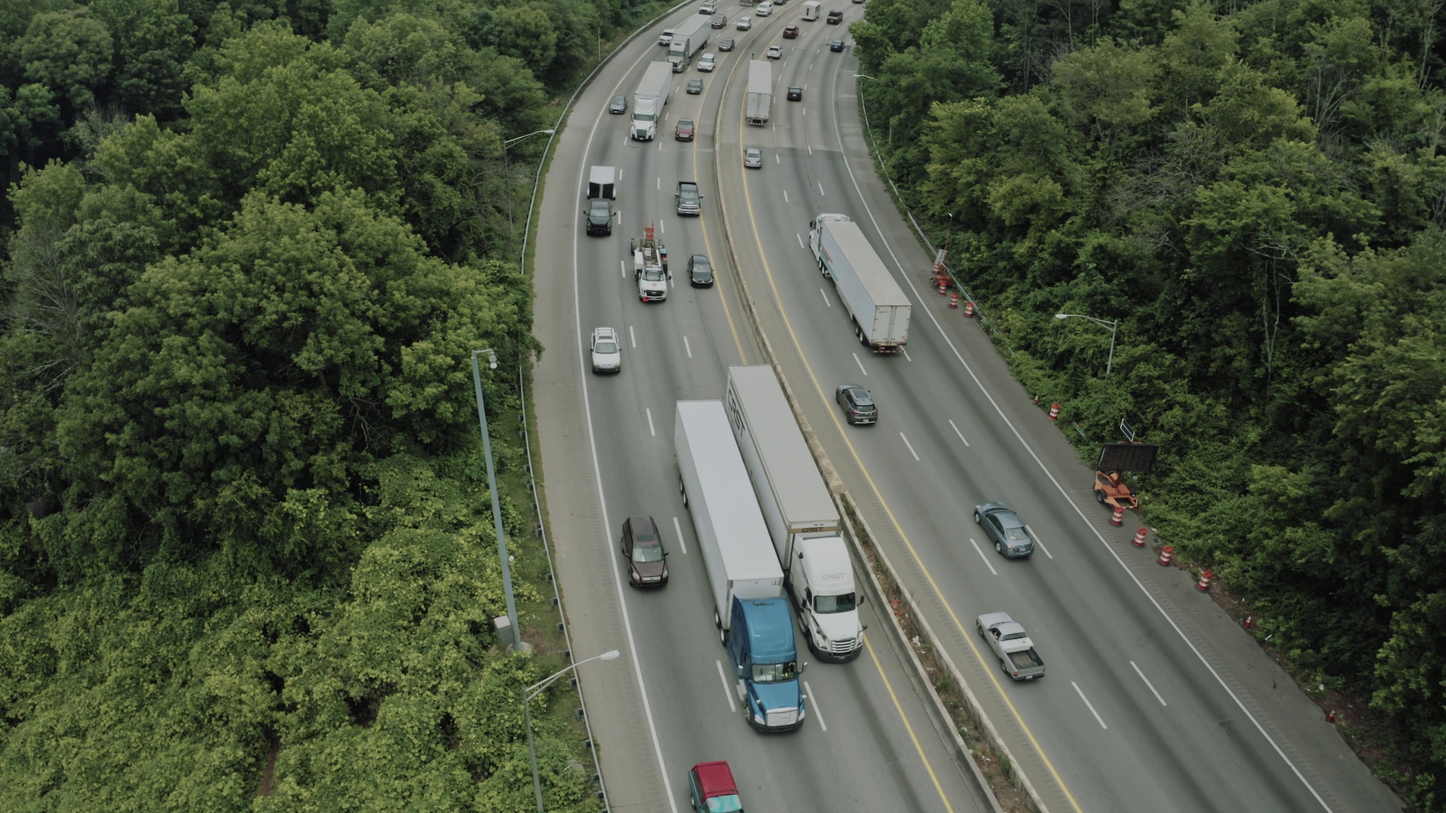Vehicle: (712, 572, 808, 737), (784, 524, 867, 663), (975, 611, 1046, 681), (973, 501, 1042, 559), (805, 206, 859, 277), (679, 758, 753, 809), (620, 514, 669, 588), (627, 222, 670, 303), (835, 383, 878, 426), (629, 96, 663, 145), (590, 327, 622, 374), (584, 198, 616, 237), (664, 36, 694, 75), (675, 179, 704, 217), (687, 254, 714, 288), (800, 0, 822, 21), (675, 118, 695, 141), (743, 148, 762, 169), (697, 53, 716, 72), (609, 96, 626, 115), (658, 28, 675, 46), (756, 1, 774, 17), (686, 78, 703, 94), (826, 9, 843, 25), (711, 14, 727, 29), (787, 86, 803, 101), (736, 16, 752, 31), (768, 45, 783, 60), (719, 38, 735, 52), (783, 25, 799, 39), (699, 2, 717, 14), (830, 40, 845, 52), (1197, 571, 1205, 591), (773, 0, 789, 6), (852, 0, 865, 4)
